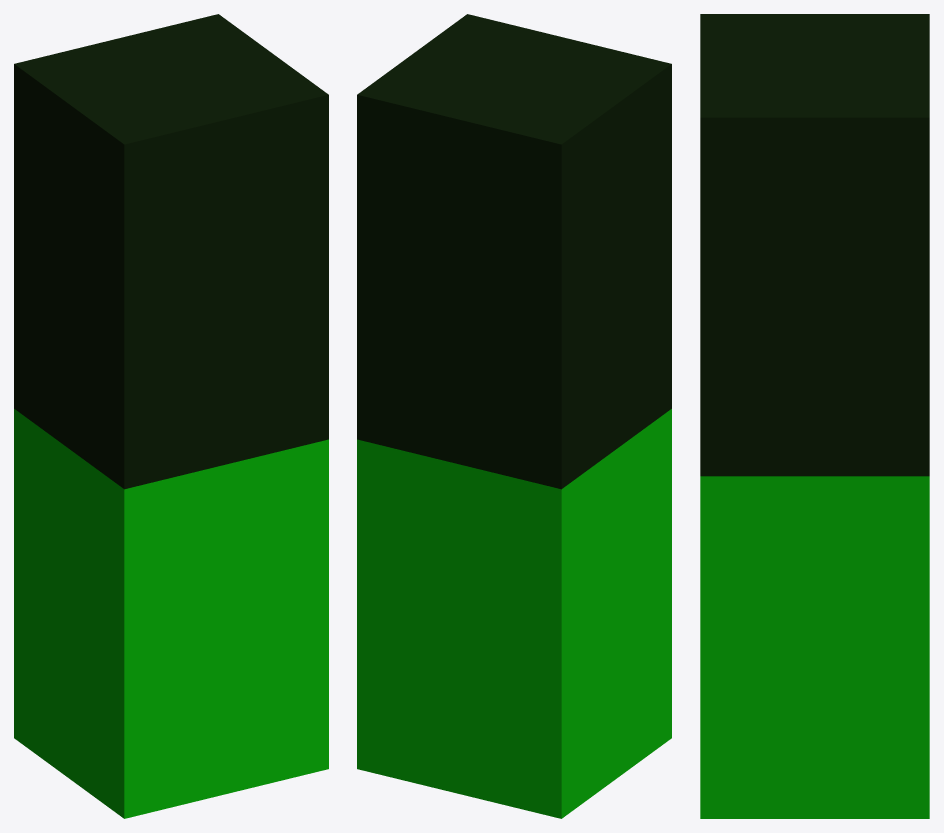
File: Leg_Bend.fbx
3 views of the same model, side by side, from view 1: azimuth 30°, elevation 25°; view 2: azimuth 150°, elevation 25°; view 3: azimuth 270°, elevation 25° (orthographic). The views are drawn at different scales.
Parts seen in each view (by area): view 1: Leg_Bend; view 2: Leg_Bend; view 3: Leg_Bend.
Boxes of the visible parts, bbox=[...] form: Leg_Bend: bbox=[14, 14, 328, 818]; Leg_Bend: bbox=[357, 14, 671, 818]; Leg_Bend: bbox=[700, 14, 929, 818].
Bounding box in the file's own units: 27.32 × 86.11 × 25.52.
